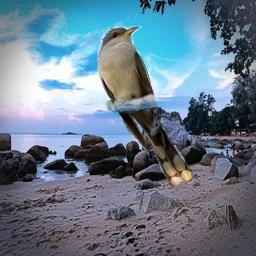Cuckoo: (97, 26, 193, 187)
